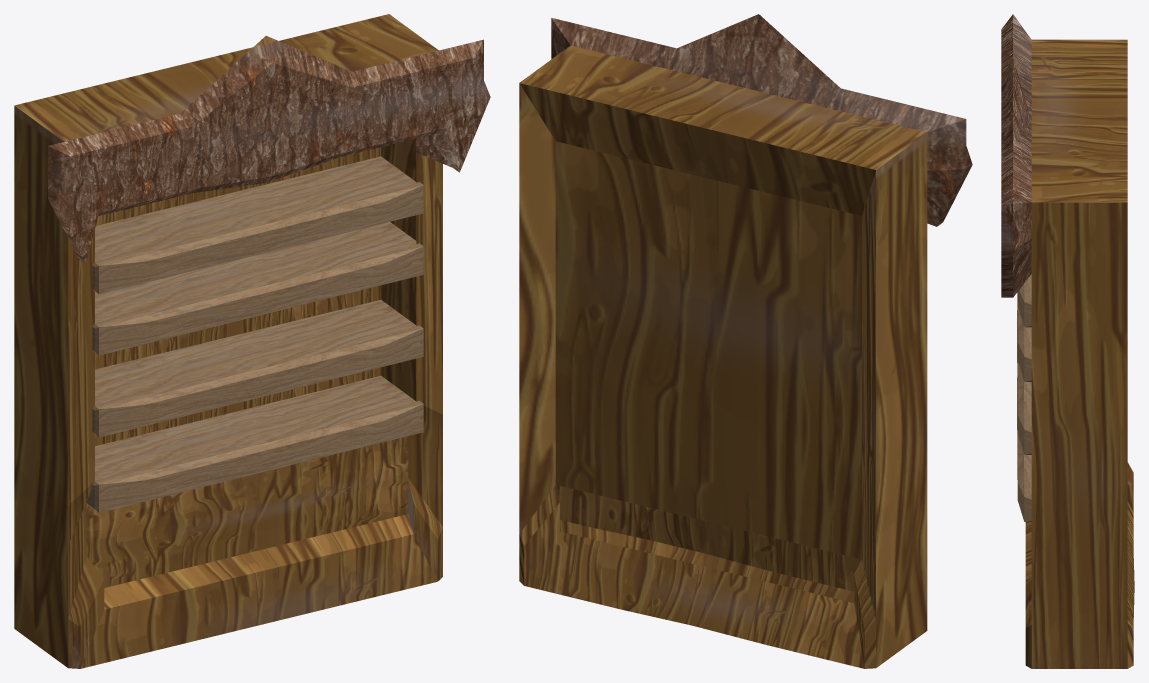
File: Bookshelf.fbx
3 views of the same model, side by side, from view 1: azimuth 30°, elevation 25°; view 2: azimuth 150°, elevation 25°; view 3: azimuth 270°, elevation 25° (orthographic). The views are drawn at different scales.
Visible parts, largest first — view 1: polySurface97; view 2: polySurface97; view 3: polySurface97.
Boxes of the visible parts, x1,y1,x2,y2 form: polySurface97: (14,14,490,668); polySurface97: (519,14,972,668); polySurface97: (1001,14,1134,668).
Size of the model in its own units: 27.07 by 35.29 by 8.05.
Materials: 1 (1 with a texture image).
